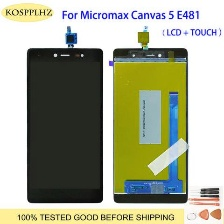phone: (109, 43, 191, 205), (22, 44, 104, 205)
